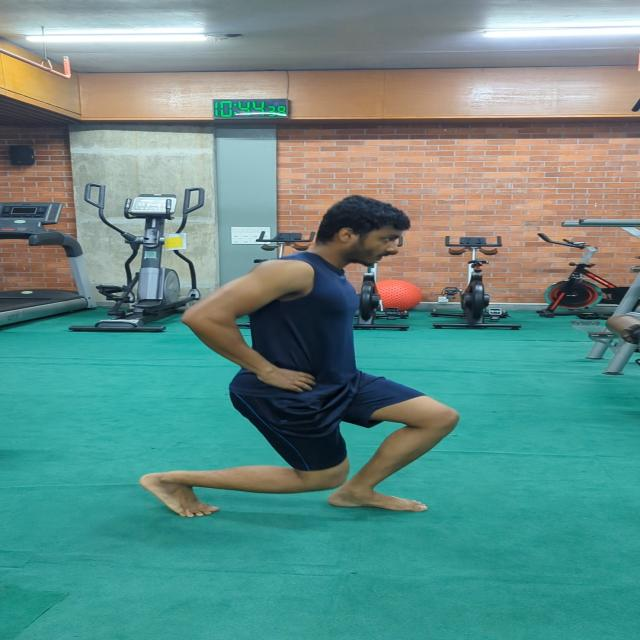Normal_Lunges: (136, 192, 478, 530)
